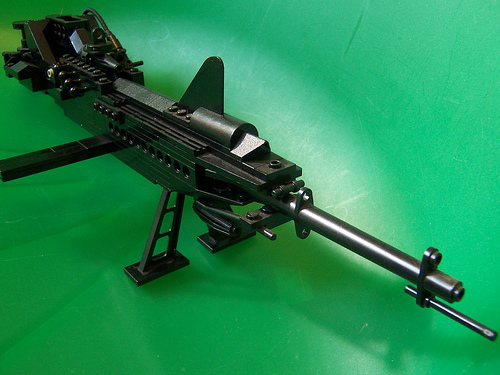rifle: (12, 21, 495, 348)
